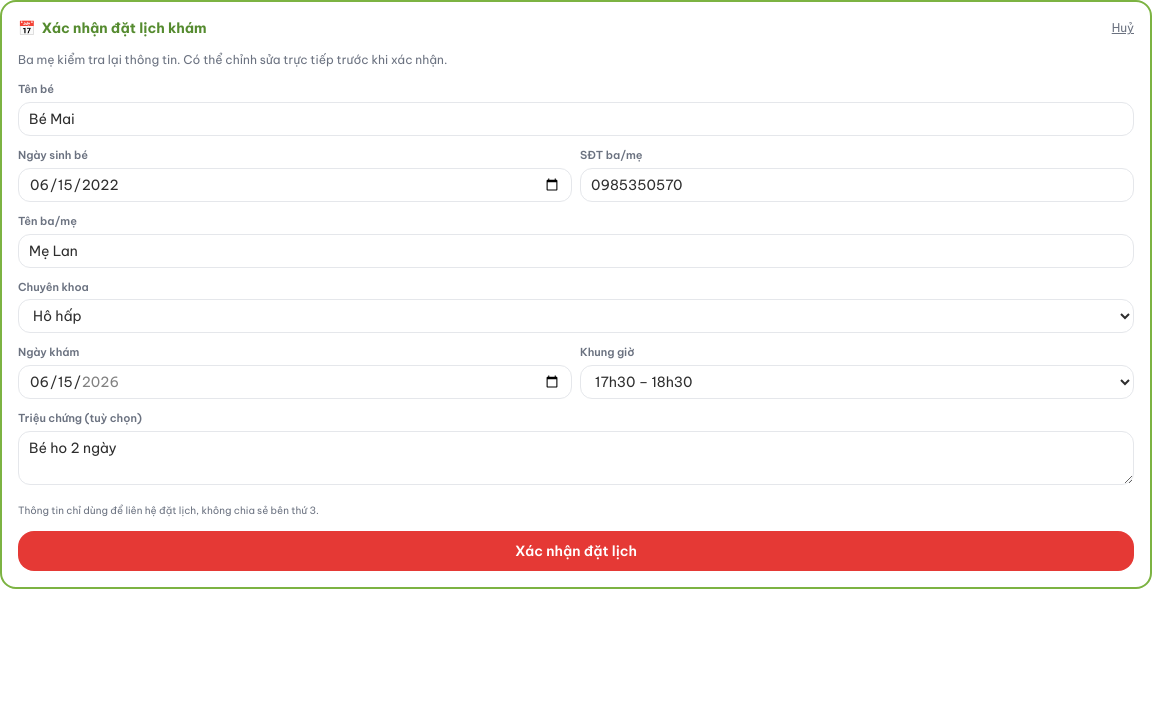
Test: BookingConfirmCard › hiện error khi fetch fail (network)
What coordinates should you click on to do the following:
click the button "Xác nhận đặt lịch"
I would click on:
 (576, 551)
Its box is [18,531,1134,571].
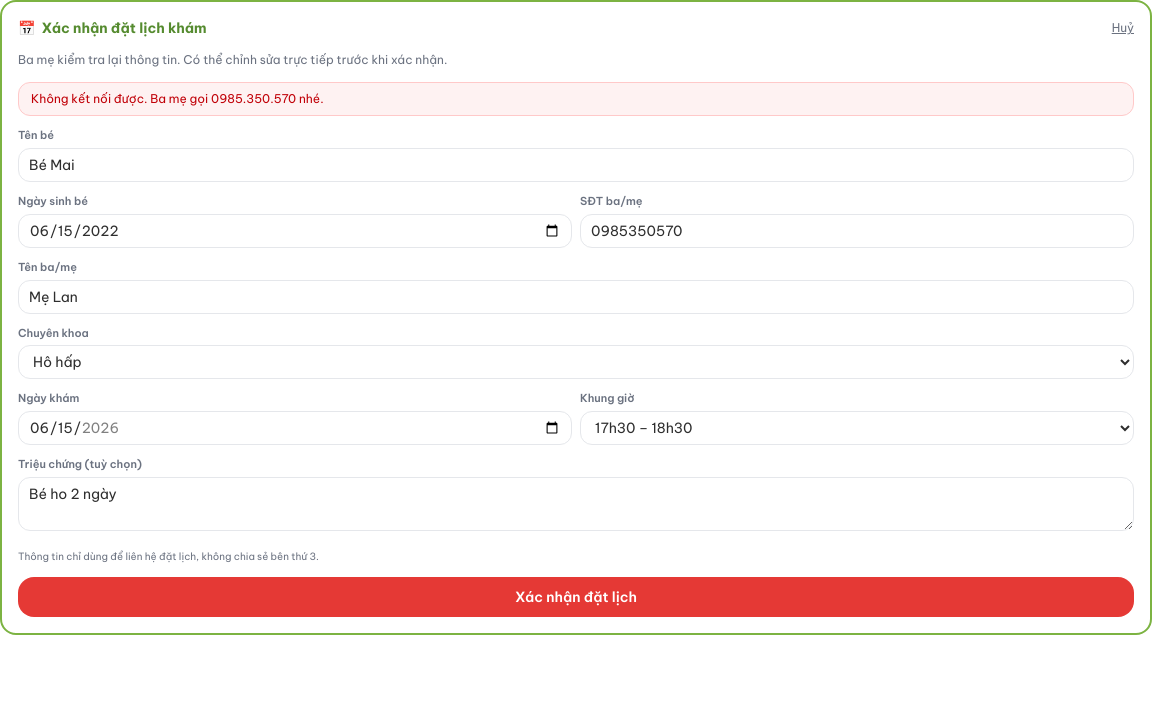
Expected: the message "Không kết nối được. Ba mẹ gọi 0985.350.570 nhé." is shown, [18,82,1134,116]
Expected: the message shows "Không kết nối", [31,91,324,106]
